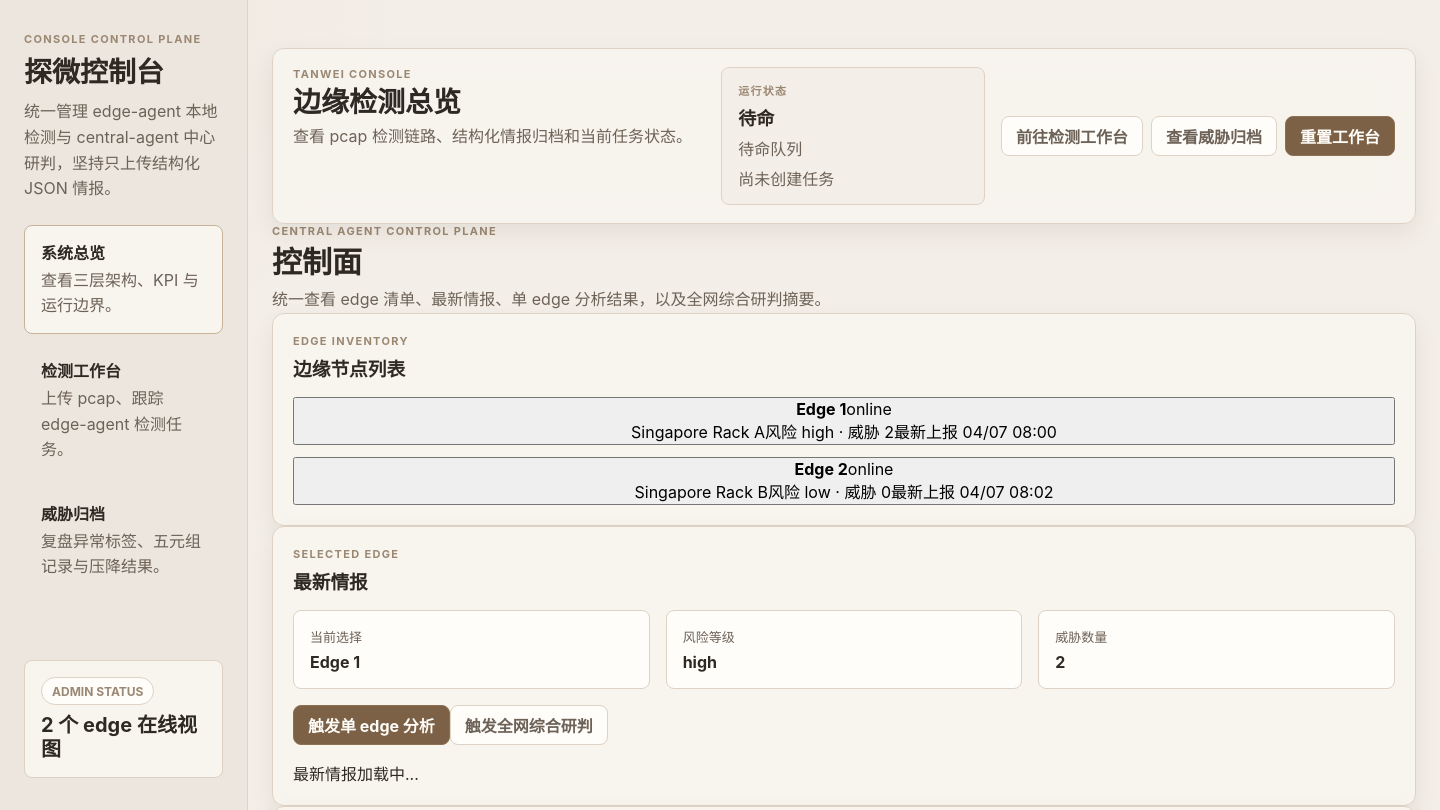
Scenario: App › shows central reporting details and supports switching edge report history
Click the button "威胁归档 复盘异常标签、五元组记录与压降结果。" at (124, 540), box left=24, top=486, right=223, bottom=595
(page scrolled)
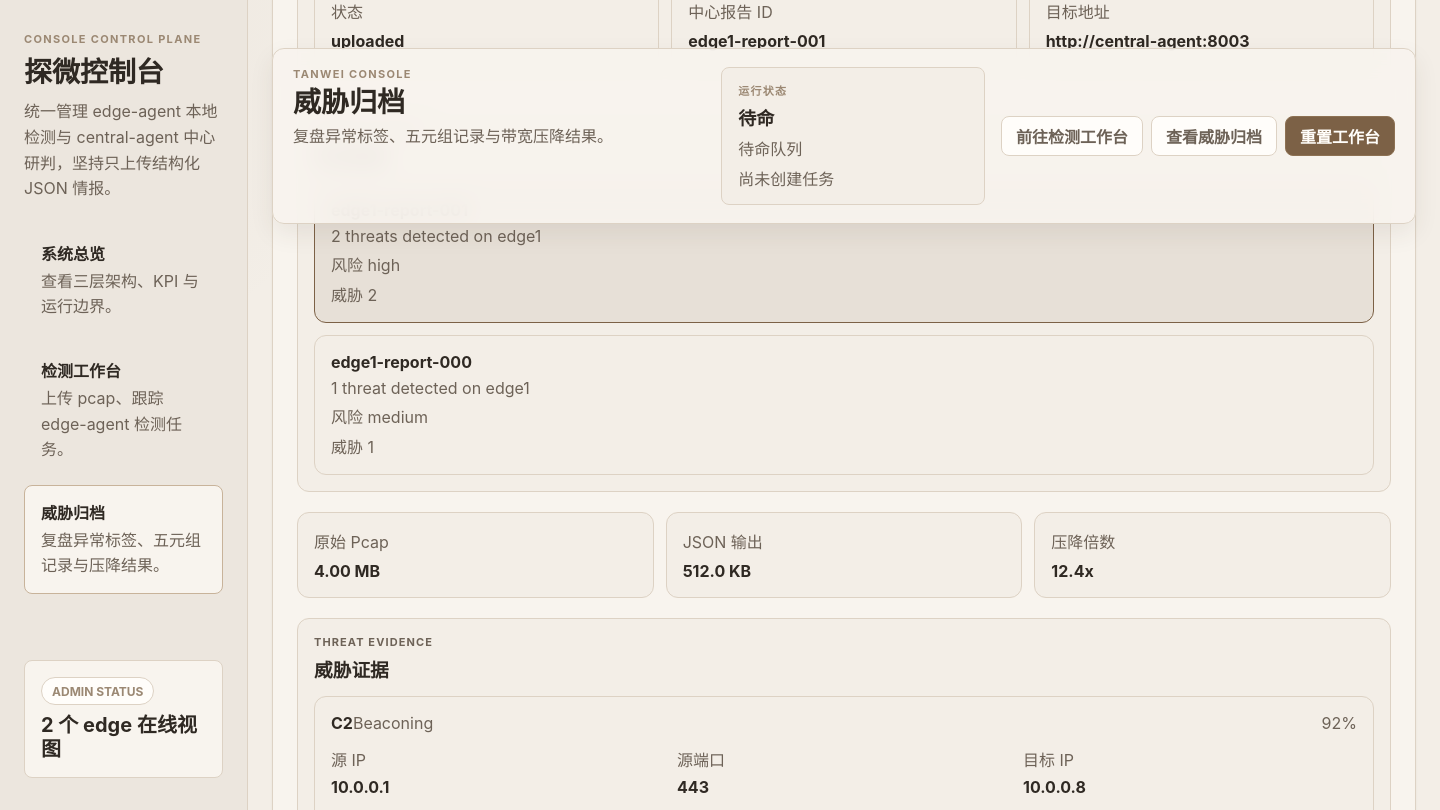
Expected: the text "uploaded" is shown, left=331, top=31, right=404, bottom=51
Expected: the text "edge1-report-001" is shown, left=688, top=31, right=825, bottom=51
Click the button "edge1-report-000 1 threat detected on edge1 风险 medium 威胁 1" at (401, 362), box left=314, top=335, right=1374, bottom=475
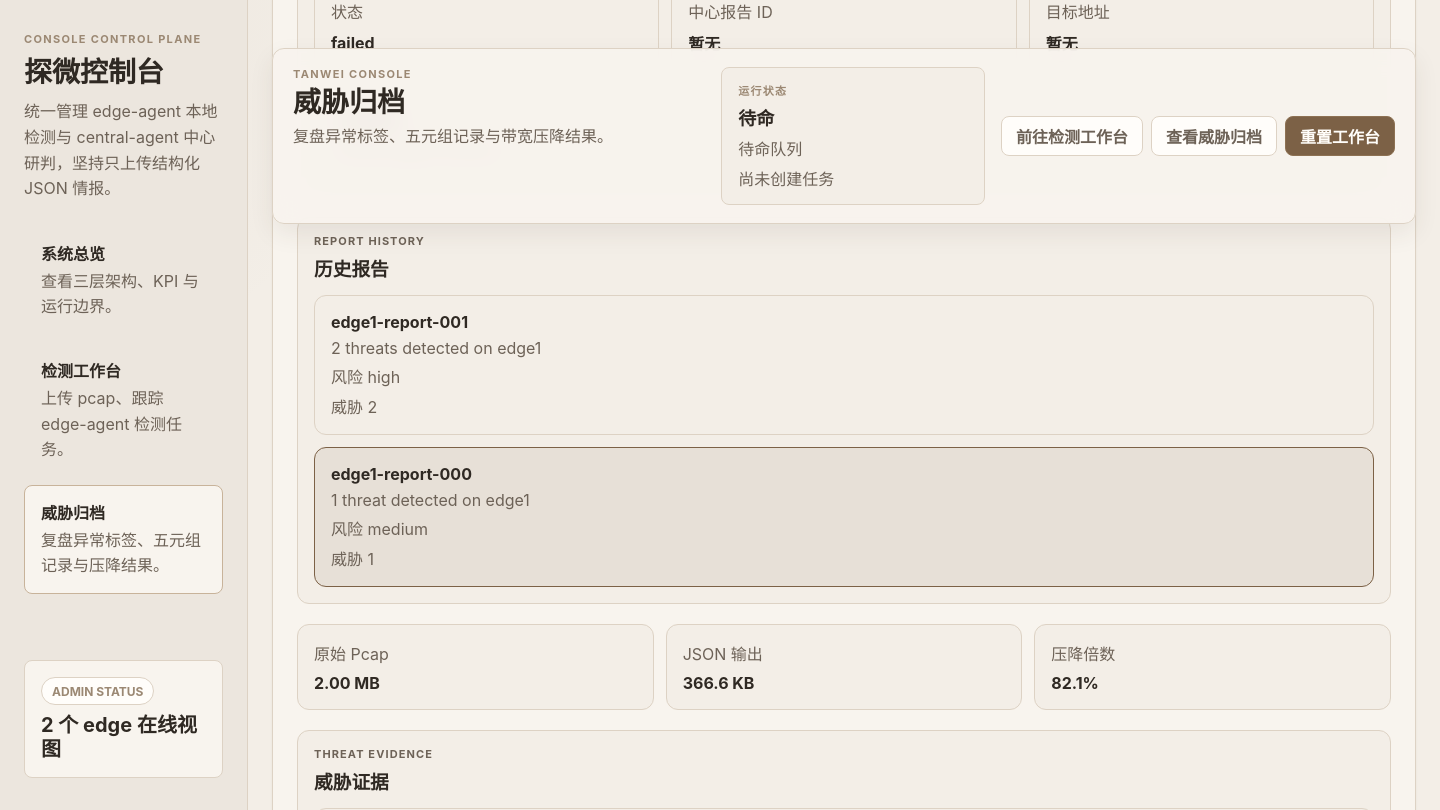
Expected: the text "central-agent timeout" is shown, left=335, top=139, right=498, bottom=159
Expected: the text "failed" is shown, left=331, top=33, right=375, bottom=53
